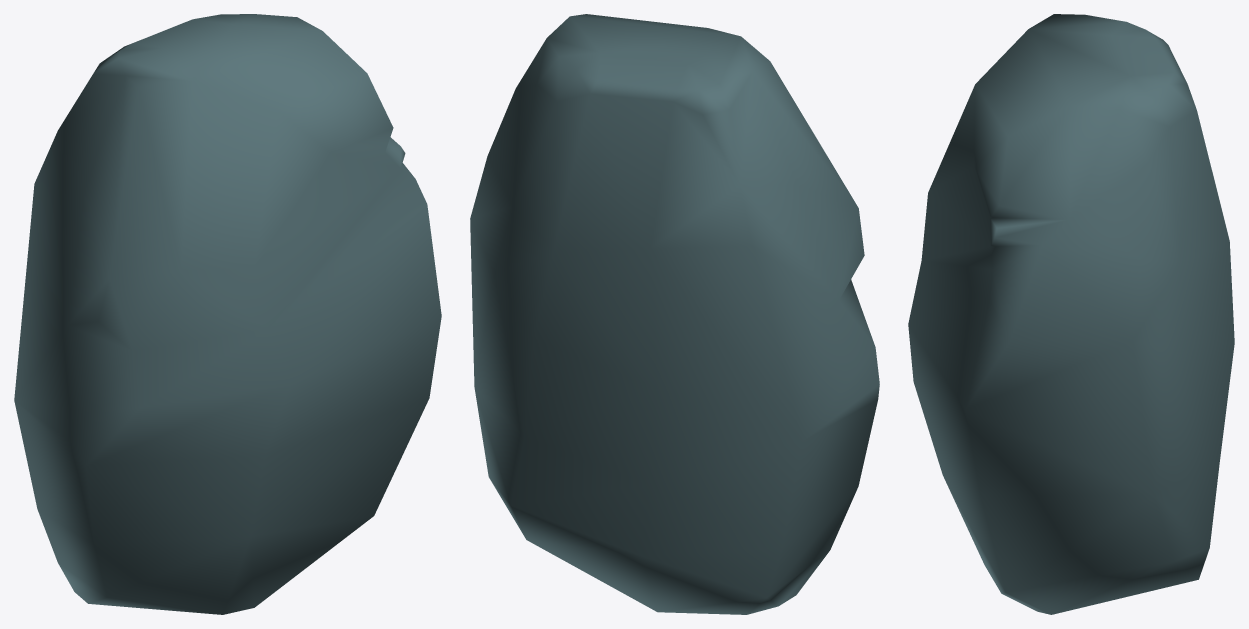
The model's file is rock_03.glb.
3 views of the same model, side by side, from view 1: azimuth 30°, elevation 25°; view 2: azimuth 150°, elevation 25°; view 3: azimuth 270°, elevation 25° (orthographic). The views are drawn at different scales.
Parts seen in each view (by area): view 1: rockmodel3; view 2: rockmodel3; view 3: rockmodel3.
Part boxes in pixels (x1,y1,x2,y2): rockmodel3: (14, 14, 441, 614); rockmodel3: (470, 14, 879, 614); rockmodel3: (908, 14, 1234, 614).
Bounding box in the file's own units: 0.4467 × 0.6487 × 0.3524.
